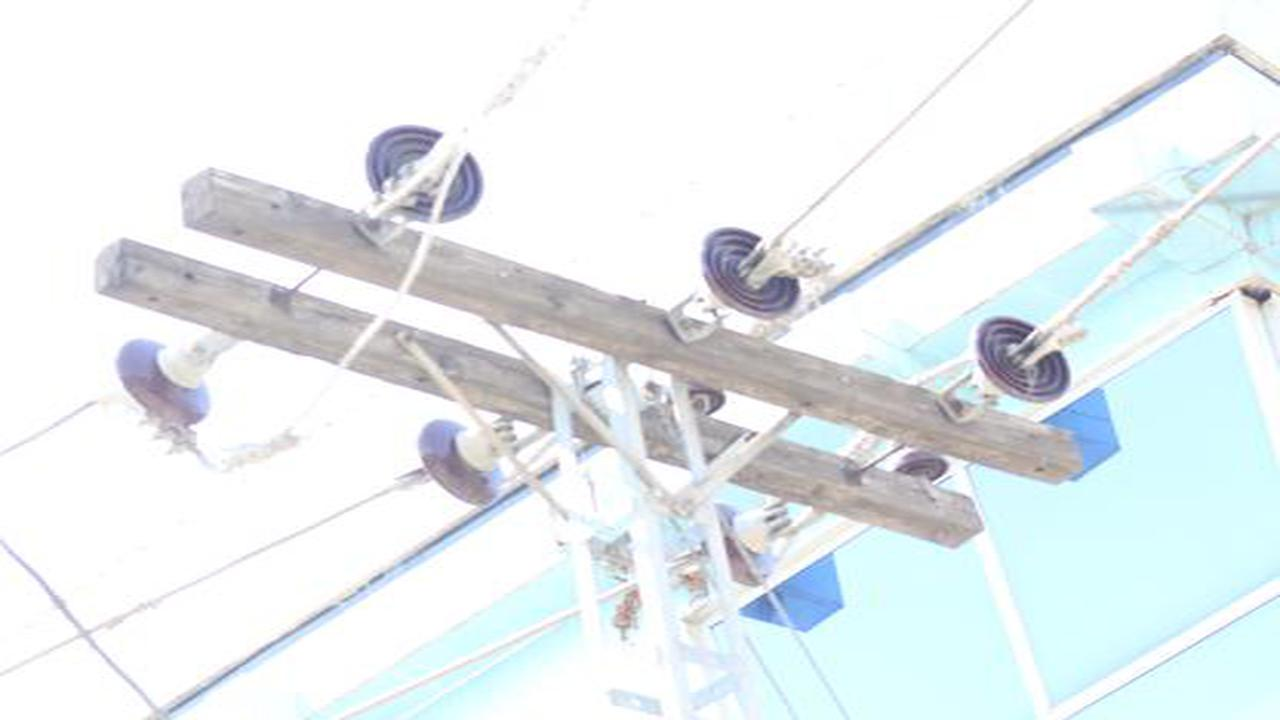insulator_disc: (362, 122, 486, 224), (116, 328, 222, 428), (973, 313, 1072, 407), (704, 225, 802, 318), (414, 416, 513, 507), (714, 501, 791, 586)
